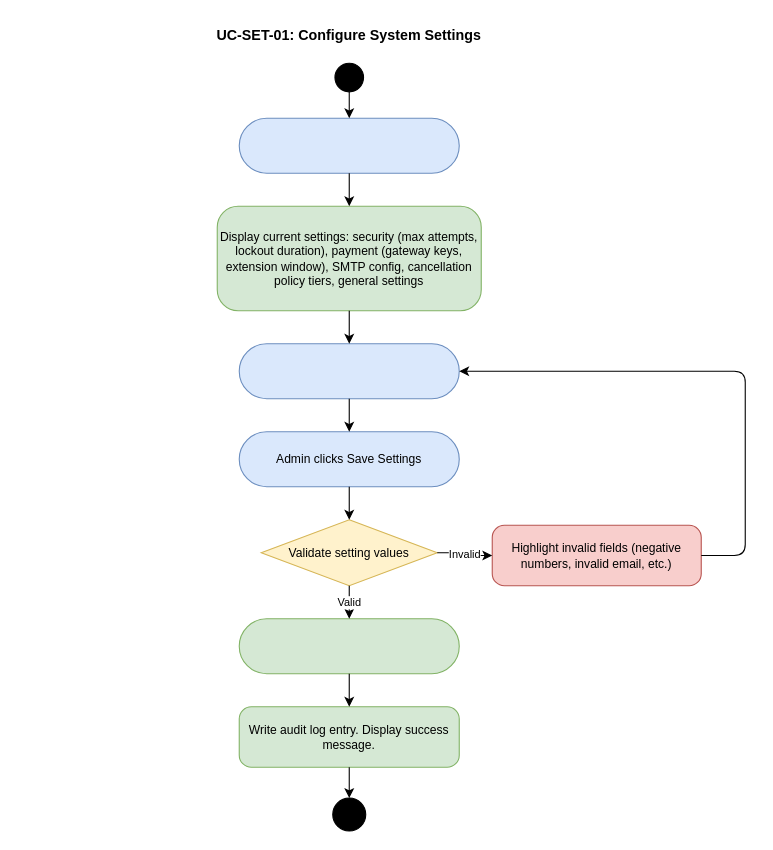
Image size: 773x850. Some labels were removed from this diagram. Each missing label, with the centre of its shape:
Admin modifies one or more settings fields: (x=348, y=371)
Admin navigates to System Settings page: (x=348, y=145)
Save updated settings to database: (x=348, y=646)
